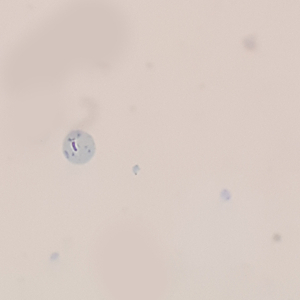punctate reticulocyte: (61, 128, 97, 167)
